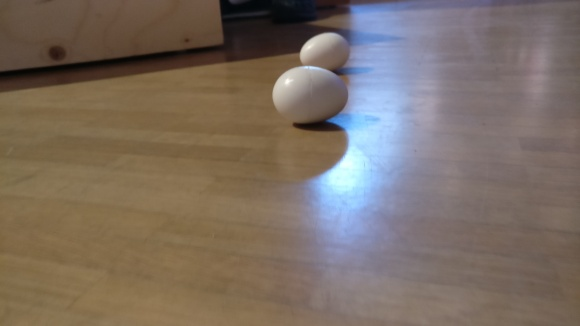egg: (272, 65, 349, 126), (299, 31, 349, 71)
